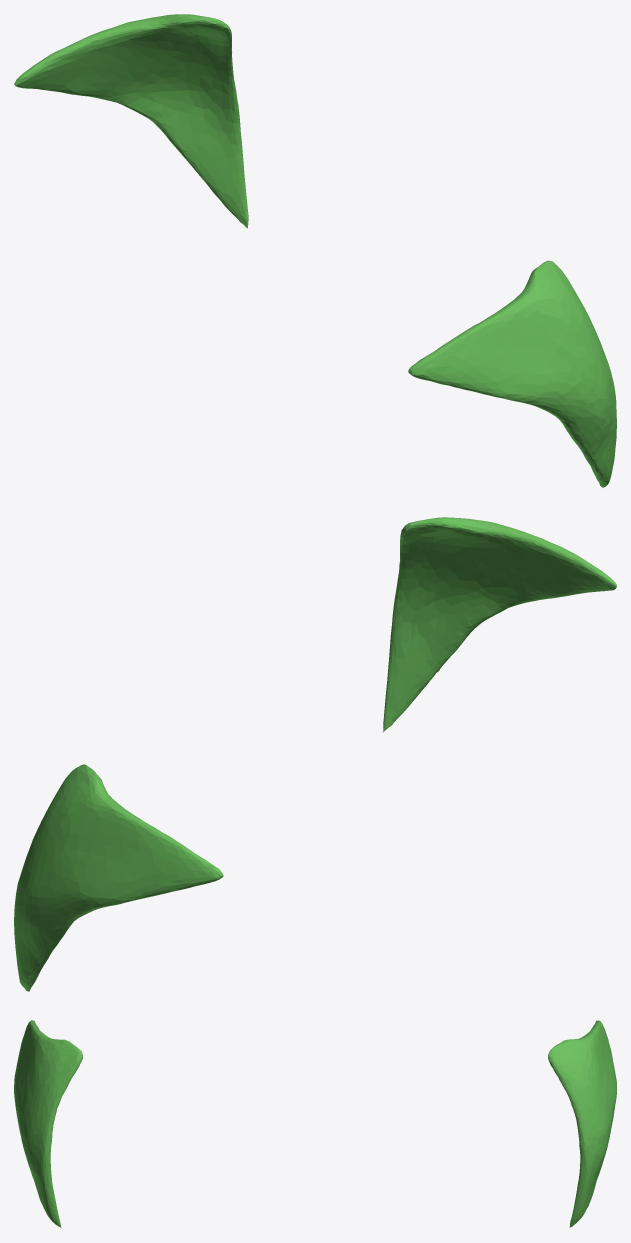
3 renders of one model, top to bottom at view 1: azimuth 30°, elevation 25°; view 2: azimuth 150°, elevation 25°; view 3: azimuth 270°, elevation 25°, orthographic. The views are drawn at different scales.
Parts seen in each view (by area): view 1: 20.obj; view 2: 20.obj; view 3: 20.obj.
Boxes of the visible parts, x1=… form: 20.obj: x1=14, y1=14, x2=616, y2=487; 20.obj: x1=14, y1=517, x2=616, y2=991; 20.obj: x1=14, y1=1020, x2=616, y2=1228.
Size of the model in its own units: 2939 by 2994 by 9828.
